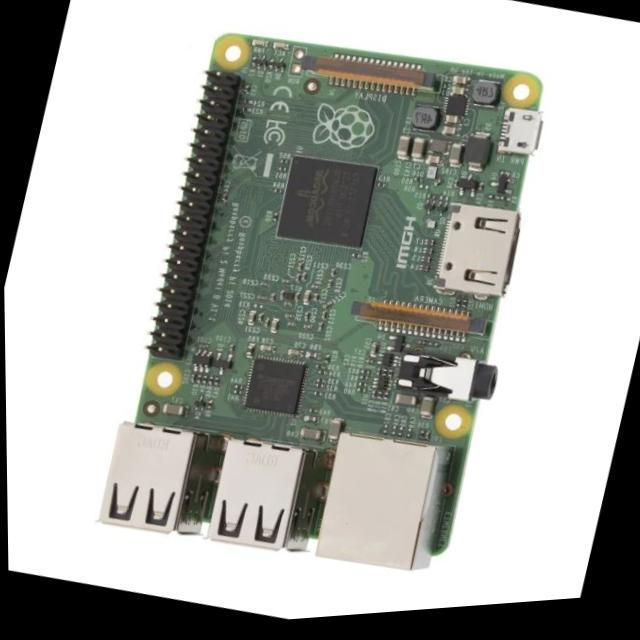Raspberry-Pi-2-B: (102, 35, 541, 570)
